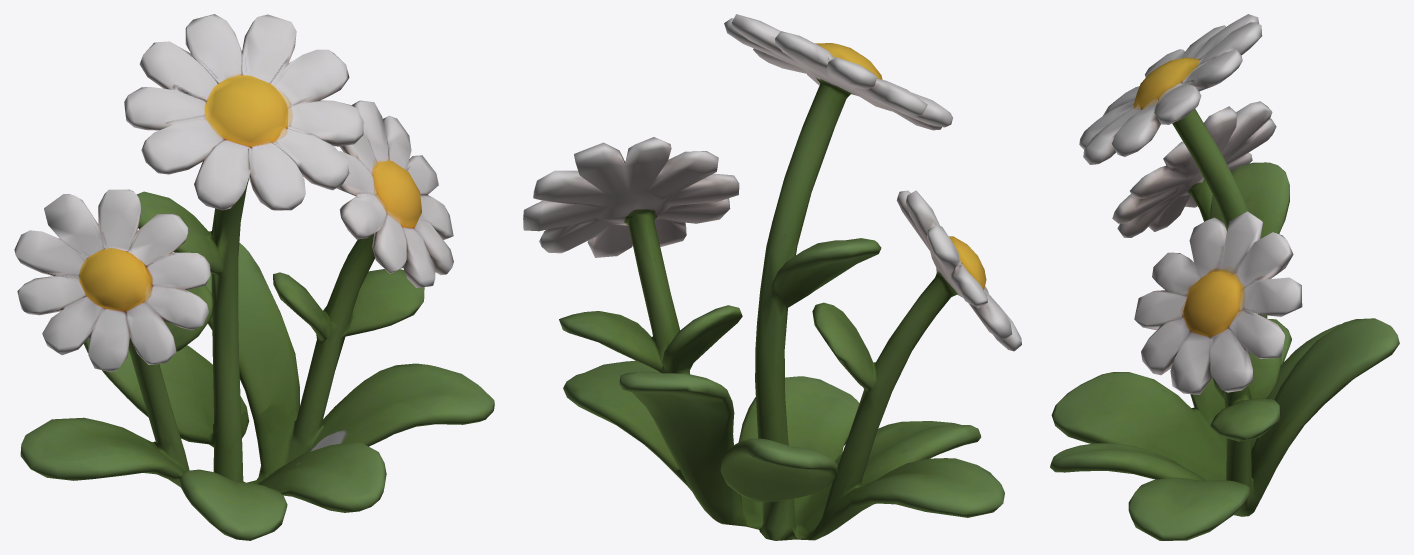
Rendered from daisy+plant+3d+model.glb.
3 renders of one model, left to right at view 1: azimuth 30°, elevation 25°; view 2: azimuth 150°, elevation 25°; view 3: azimuth 270°, elevation 25°, orthographic. The views are drawn at different scales.
Parts seen in each view (by area): view 1: tripo_node_c4c98525-160c-4518-b3f3-31572021fdf3; view 2: tripo_node_c4c98525-160c-4518-b3f3-31572021fdf3; view 3: tripo_node_c4c98525-160c-4518-b3f3-31572021fdf3.
Boxes of the visible parts, x1,y1,x2,y2 form: tripo_node_c4c98525-160c-4518-b3f3-31572021fdf3: (14, 14, 494, 540); tripo_node_c4c98525-160c-4518-b3f3-31572021fdf3: (523, 14, 1021, 540); tripo_node_c4c98525-160c-4518-b3f3-31572021fdf3: (1050, 14, 1399, 540).
Size of the model in its own units: 0.9672 by 1 by 0.6925.
Materials: 1 (1 with a texture image).
